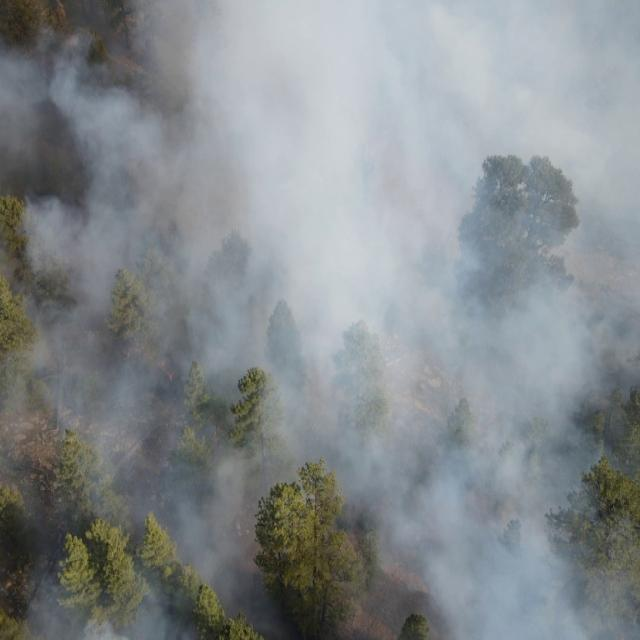fire: (157, 358, 175, 383), (123, 348, 135, 363)
smoke: (361, 0, 640, 640), (65, 2, 362, 554), (30, 554, 274, 640), (0, 340, 66, 554), (0, 25, 66, 194), (20, 196, 65, 340), (0, 240, 20, 308)
